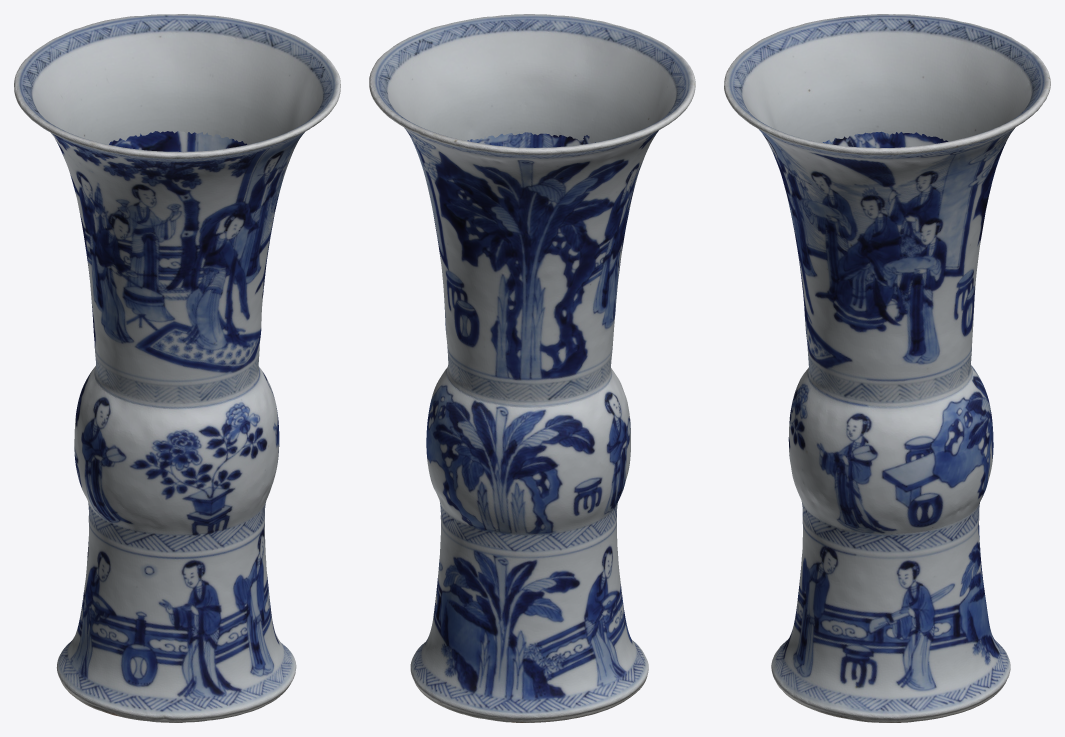
3 renders of one model, left to right at view 1: azimuth 30°, elevation 25°; view 2: azimuth 150°, elevation 25°; view 3: azimuth 270°, elevation 25°, orthographic.
Bounding box in the file's own units: 0.1396 × 0.2809 × 0.1399.
